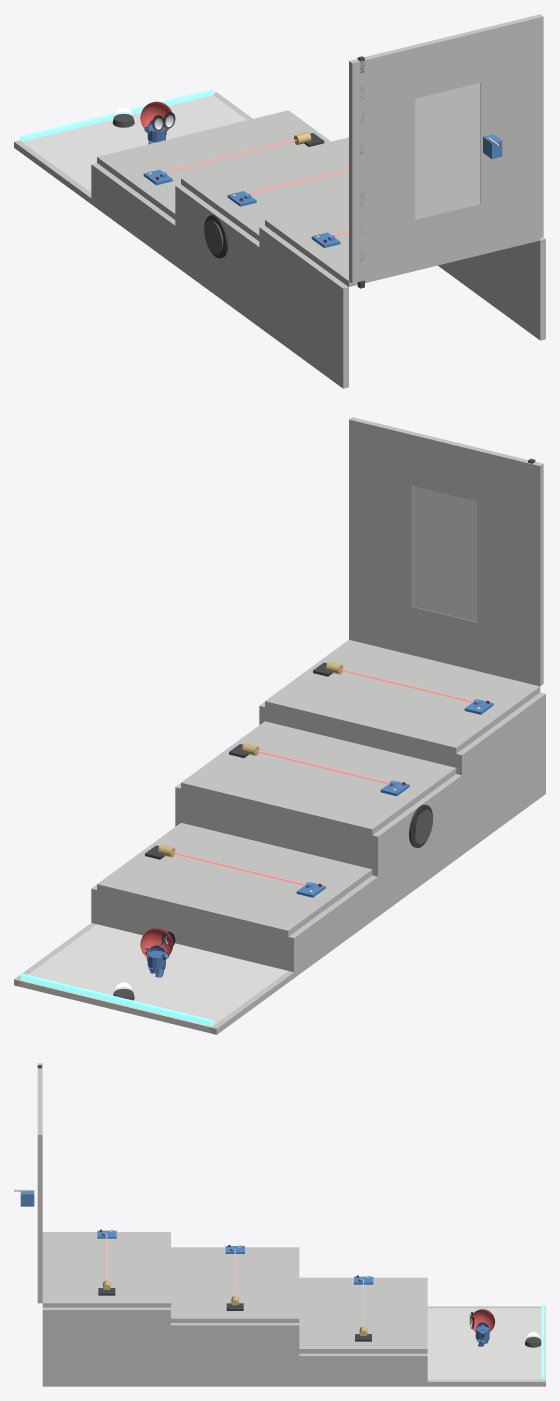
File: smart-staircase.gltf
The picture shows the model from 3 angles, top to bottom: view 1: azimuth 30°, elevation 25°; view 2: azimuth 150°, elevation 25°; view 3: azimuth 270°, elevation 25°; orthographic projection. The views are drawn at different scales.
Visible parts, largest first — view 1: SmartStaircase; view 2: SmartStaircase; view 3: SmartStaircase.
Part boxes in pixels (x1,y1,x2,y2): SmartStaircase: [14, 14, 545, 388]; SmartStaircase: [14, 417, 545, 1034]; SmartStaircase: [14, 1063, 545, 1386].
Bounding box in the file's own units: 21.62 × 32.84 × 63.
